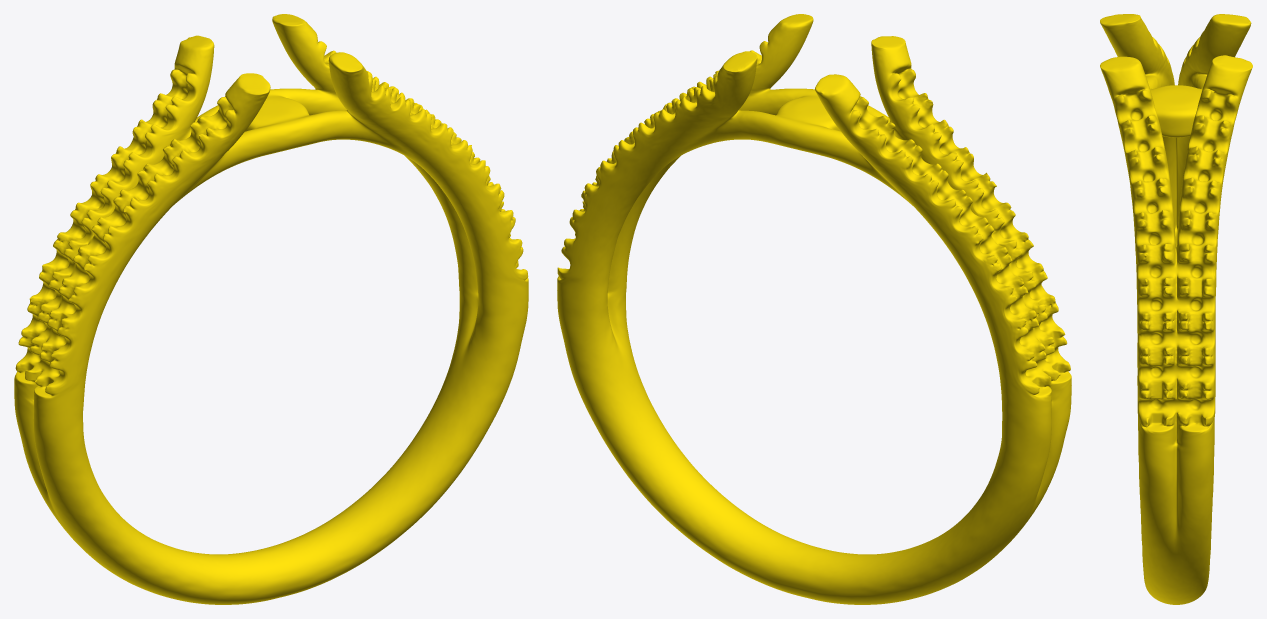
Rendered from Shank_Two row split_U Prong_A_Single Halo_Band.glb.
3 renders of one model, left to right at view 1: azimuth 30°, elevation 25°; view 2: azimuth 150°, elevation 25°; view 3: azimuth 270°, elevation 25°, orthographic.
Size of the model in its own units: 0.0212 by 0.0226 by 0.0058.
